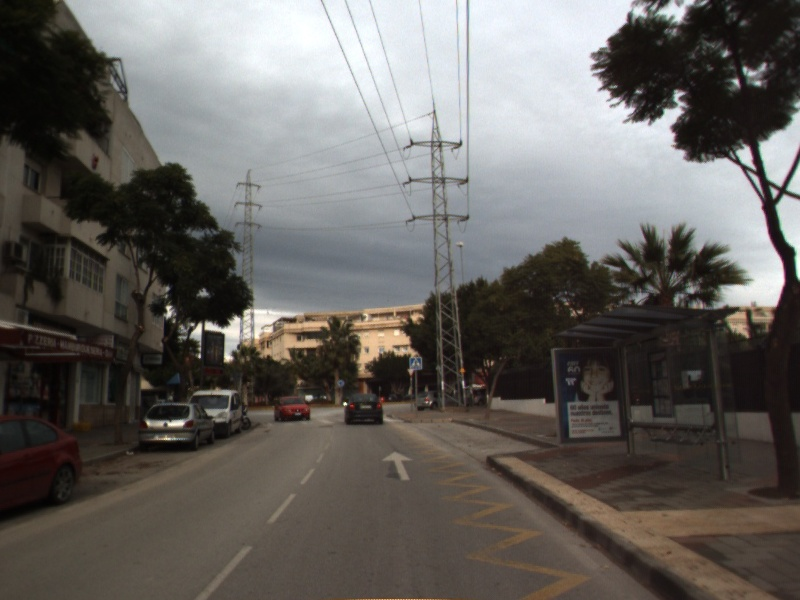STRAIGHT: (379, 449, 416, 482)
